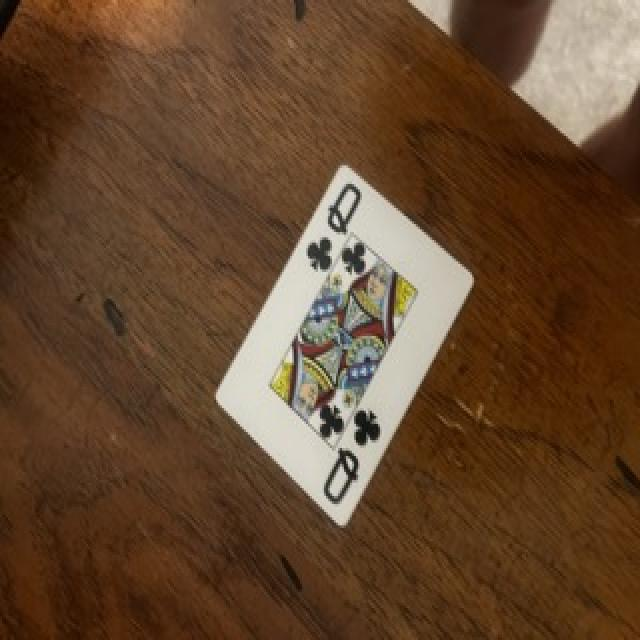Queen of clubs: (218, 165, 472, 525)
